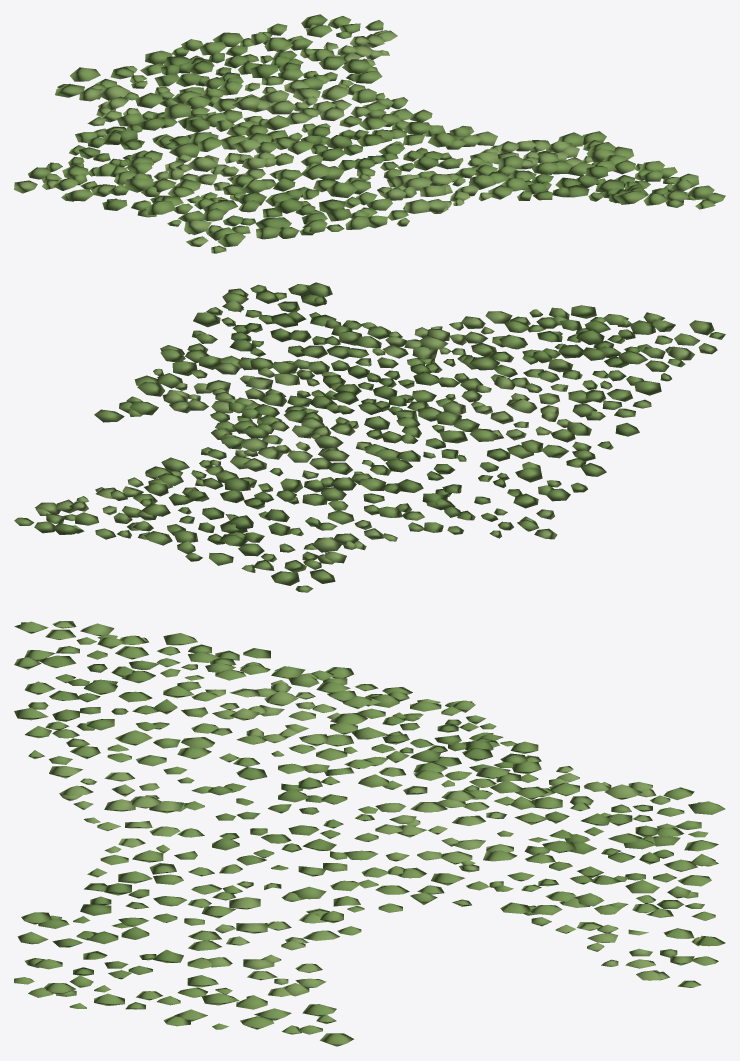
Rendered from canopy-1-2-2.glb.
The picture shows the model from 3 angles, top to bottom: view 1: azimuth 30°, elevation 25°; view 2: azimuth 150°, elevation 25°; view 3: azimuth 270°, elevation 25°; orthographic projection. The views are drawn at different scales.
Size of the model in its own units: 515 by 118 by 512.
Materials: 1 (1 with a texture image).
